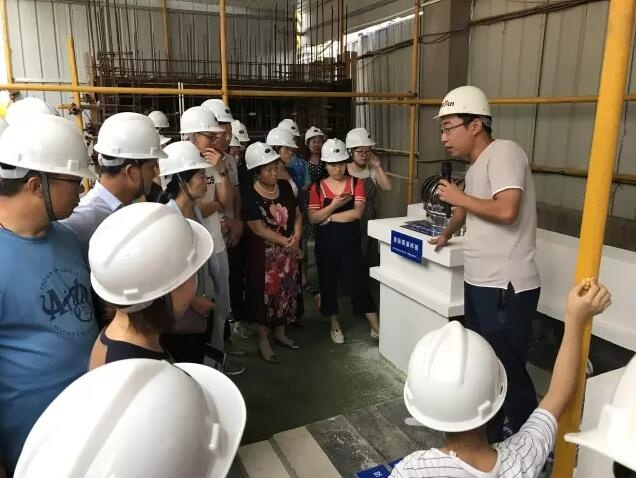white: (88, 198, 207, 329), (399, 318, 510, 440), (4, 114, 89, 226), (97, 109, 159, 193), (434, 82, 493, 157), (158, 139, 209, 198), (179, 106, 218, 156), (204, 97, 232, 147), (246, 143, 280, 184), (344, 126, 375, 165), (321, 138, 349, 180), (267, 126, 295, 162), (304, 126, 325, 154)
